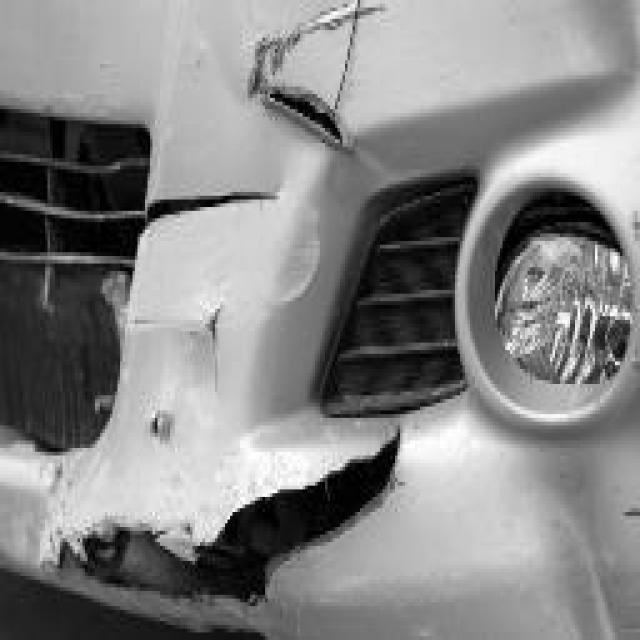Bumper: (0, 4, 640, 640)
